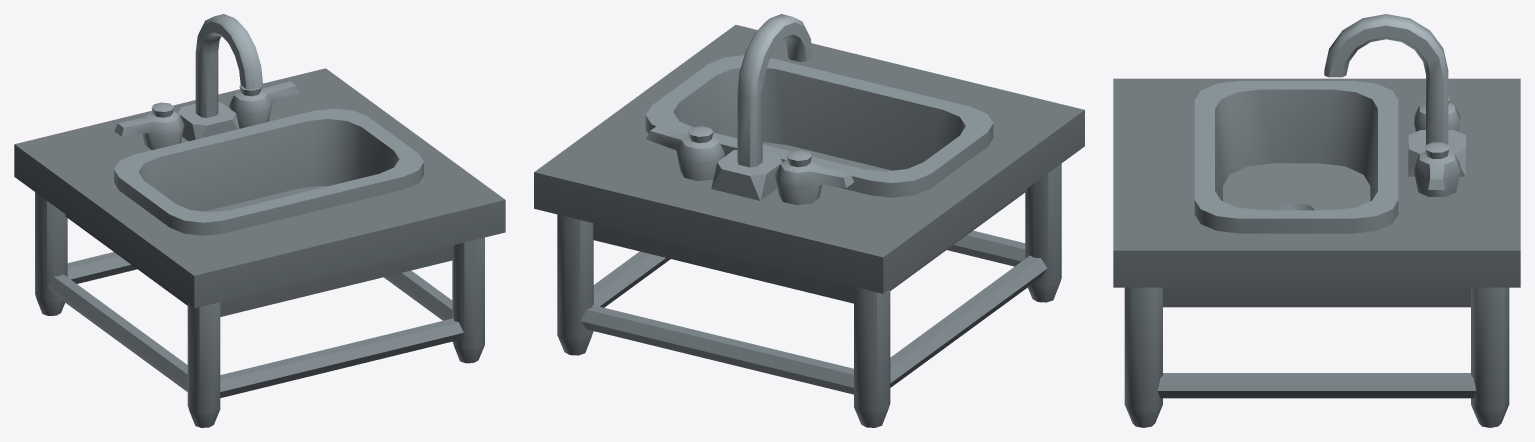
The model's file is kitchentable_sink.obj.
3 renders of one model, left to right at view 1: azimuth 30°, elevation 25°; view 2: azimuth 150°, elevation 25°; view 3: azimuth 270°, elevation 25°, orthographic. The views are drawn at different scales.
Parts seen in each view (by area): view 1: kitchentable_sink_Cube.987; view 2: kitchentable_sink_Cube.987; view 3: kitchentable_sink_Cube.987.
Part boxes in pixels (x1,y1,x2,y2): kitchentable_sink_Cube.987: [14, 14, 505, 427]; kitchentable_sink_Cube.987: [534, 14, 1084, 427]; kitchentable_sink_Cube.987: [1113, 14, 1520, 427].
Bounding box in the file's own units: 2 × 1.81 × 2.
1 material, 1 textured.
